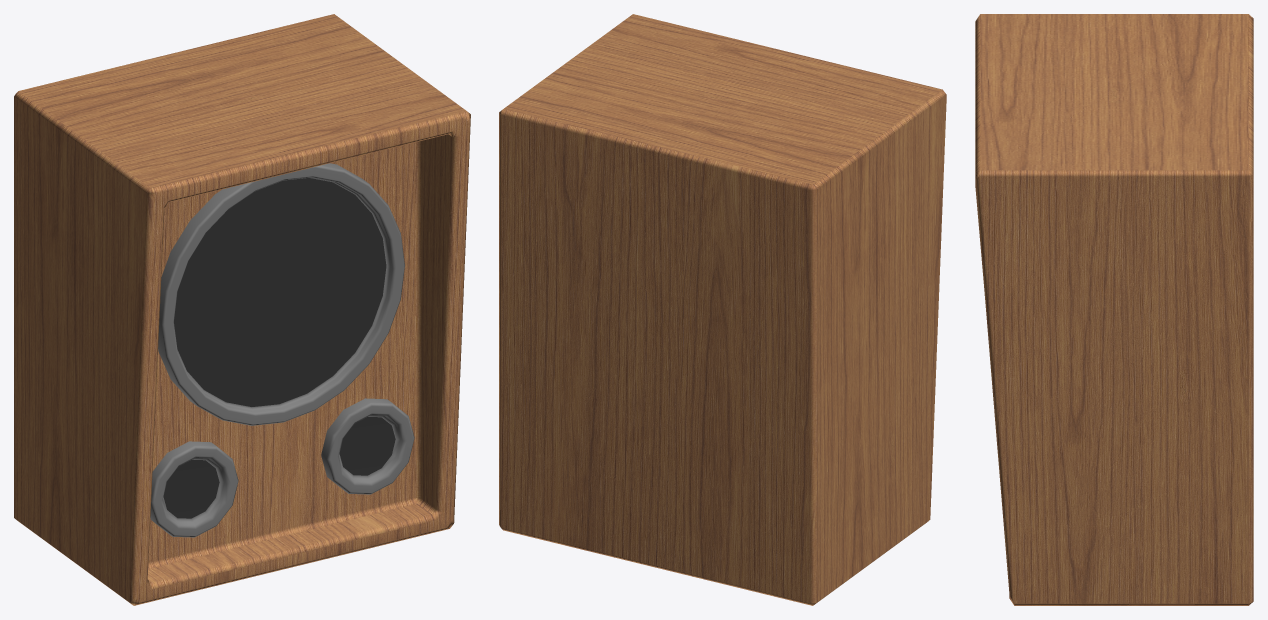
File: SM_speaker_01.fbx
3 views of the same model, side by side, from view 1: azimuth 30°, elevation 25°; view 2: azimuth 150°, elevation 25°; view 3: azimuth 270°, elevation 25° (orthographic). The views are drawn at different scales.
Visible parts, largest first — view 1: speaker; view 2: speaker; view 3: speaker.
Part boxes in pixels (box(x1,y1,x2,y2)): speaker: box(14, 14, 470, 605); speaker: box(499, 14, 946, 605); speaker: box(975, 14, 1253, 605).
Bounding box in the file's own units: 12.11 × 15.34 × 8.88.
3 materials, 1 textured.
